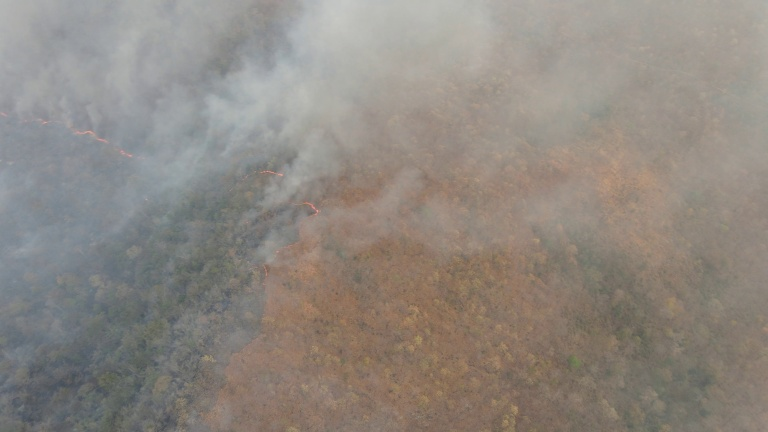fire: (1, 111, 140, 164), (277, 195, 324, 254), (257, 242, 299, 293), (237, 168, 294, 185)
smoke: (262, 1, 603, 205), (10, 1, 289, 222)
